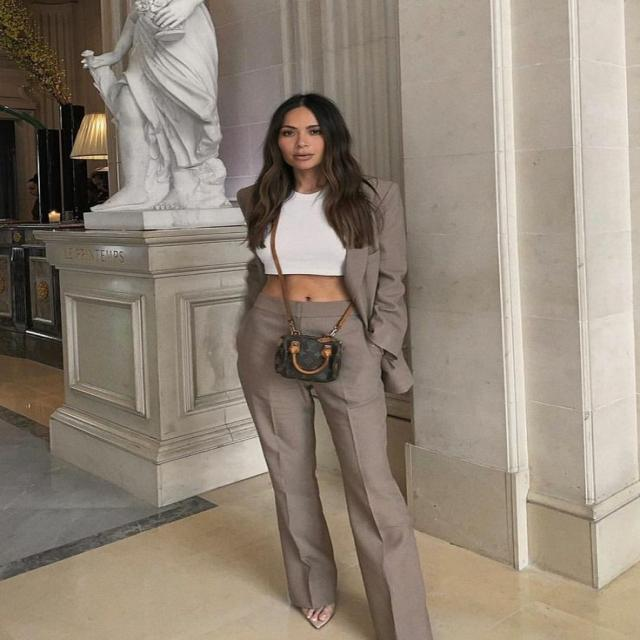male-dress: (220, 180, 436, 633)
